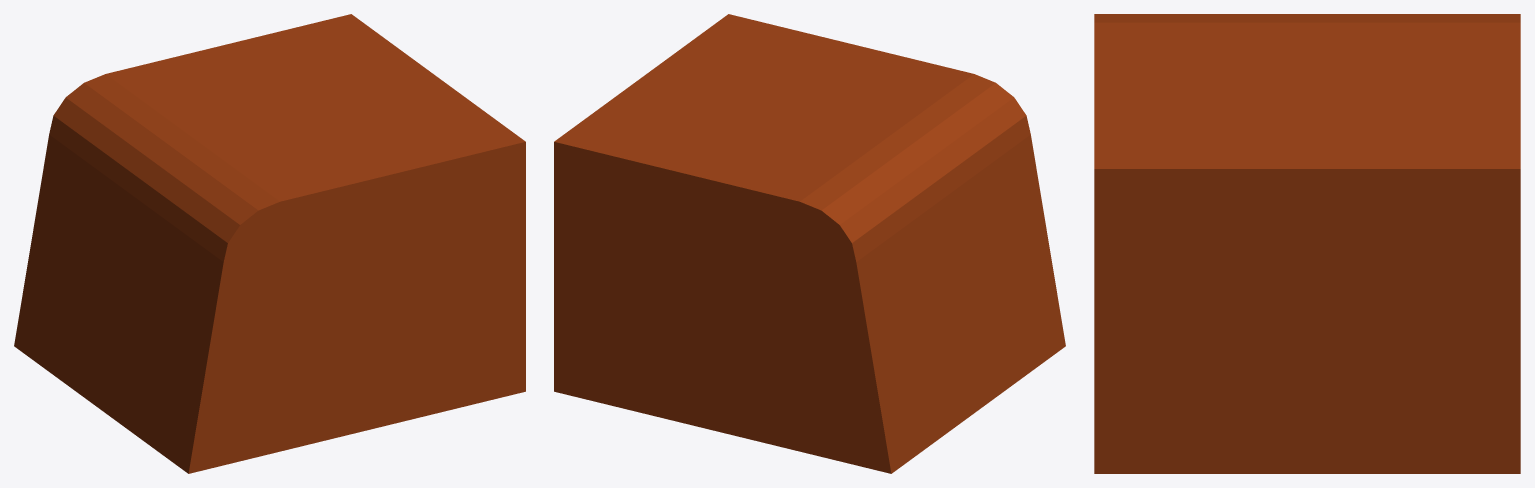
Rendered from Stol.fbx.
The picture shows the model from 3 angles, left to right: view 1: azimuth 30°, elevation 25°; view 2: azimuth 150°, elevation 25°; view 3: azimuth 270°, elevation 25°; orthographic projection. The views are drawn at different scales.
Visible parts, largest first — view 1: Куб.005; view 2: Куб.005; view 3: Куб.005.
Part boxes in pixels (x1,y1,x2,y2): Куб.005: (14, 14, 525, 473); Куб.005: (554, 14, 1065, 473); Куб.005: (1094, 14, 1520, 473).
Size of the model in its own units: 223 by 158 by 200.
